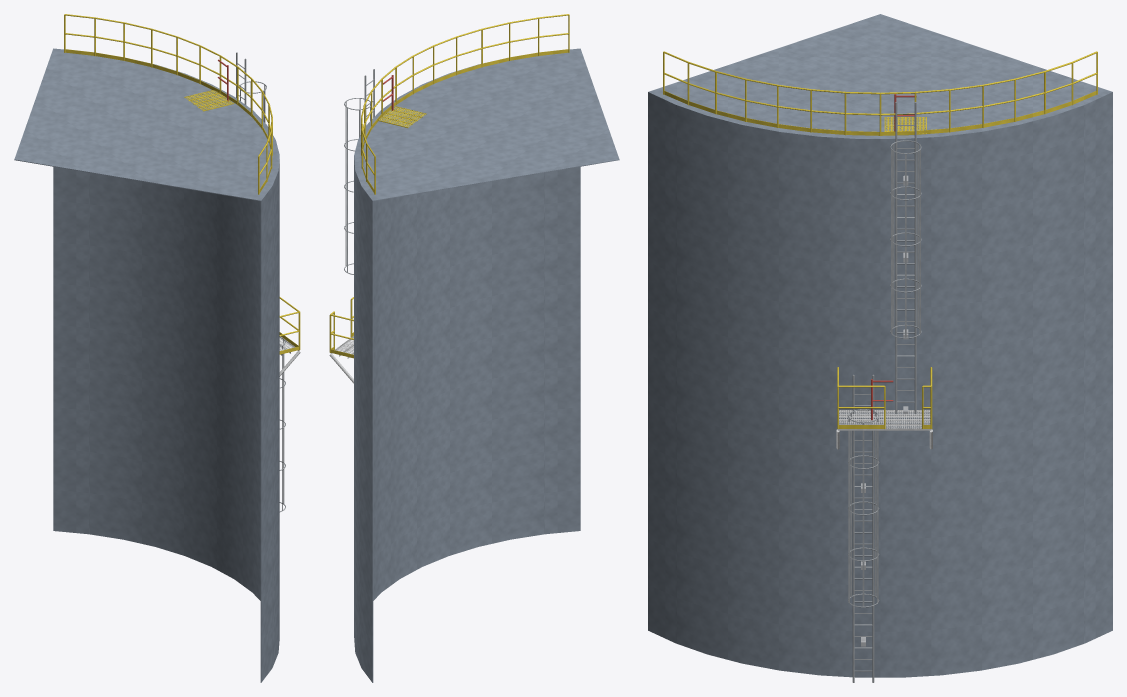
File: caged-ladders-and-railings.glb
3 views of the same model, side by side, from view 1: azimuth 30°, elevation 25°; view 2: azimuth 150°, elevation 25°; view 3: azimuth 270°, elevation 25° (orthographic). The views are drawn at different scales.
Visible parts, largest first — view 1: TankShell(context), Railings&KickPlates, CagedLadders; view 2: TankShell(context), Railings&KickPlates, CagedLadders; view 3: TankShell(context), CagedLadders, Railings&KickPlates, RestPlatform.
Boxes of the visible parts, x1=… form: TankShell(context): x1=14, y1=48, x2=279, y2=682; Railings&KickPlates: x1=64, y1=14, x2=300, y2=354; CagedLadders: x1=236, y1=52, x2=285, y2=511; TankShell(context): x1=354, y1=48, x2=619, y2=682; Railings&KickPlates: x1=329, y1=14, x2=569, y2=358; CagedLadders: x1=344, y1=69, x2=374, y2=274; TankShell(context): x1=648, y1=14, x2=1112, y2=677; CagedLadders: x1=848, y1=102, x2=921, y2=682; Railings&KickPlates: x1=663, y1=51, x2=1097, y2=429; RestPlatform: x1=836, y1=410, x2=932, y2=449.
Size of the model in its own units: 8.13 by 15.14 by 10.97.
Materials: 6 (6 with a texture image).
